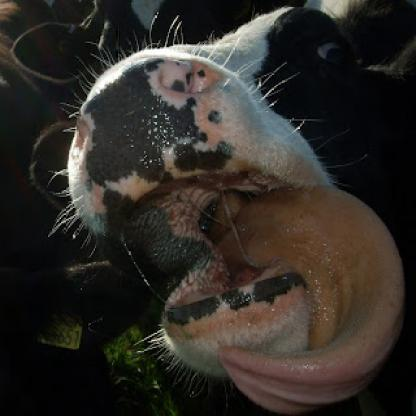lower: (231, 320, 254, 340)
mouth: (68, 52, 373, 374)
upper: (101, 101, 137, 130)
